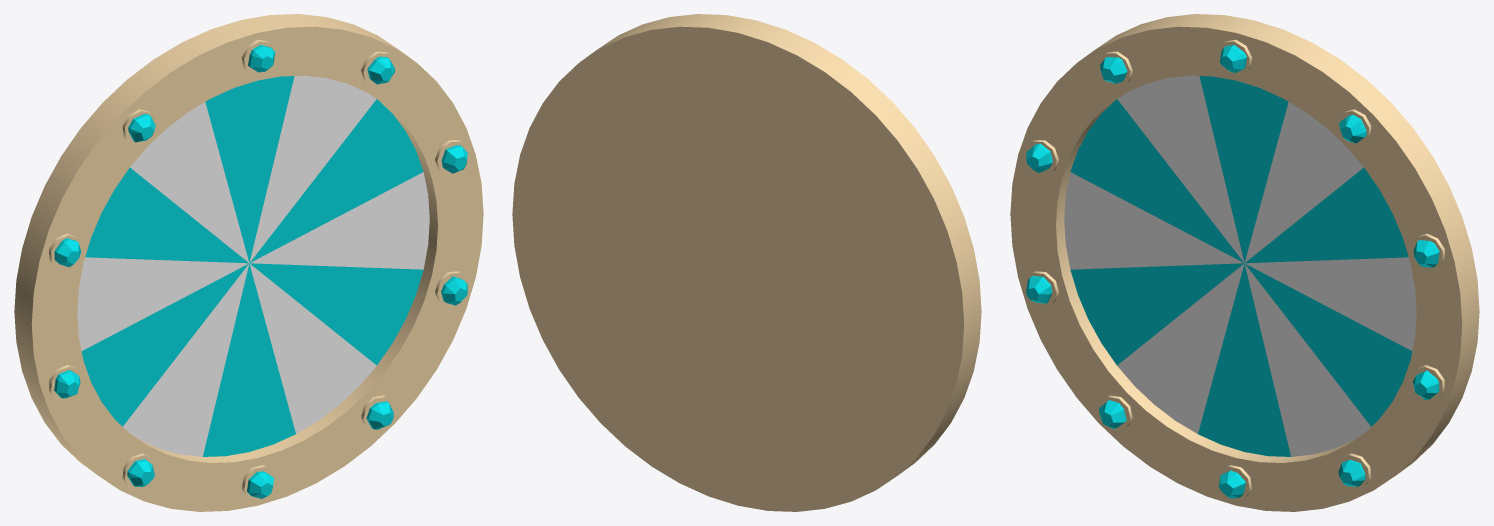
Rendered from fortune_wheel_wheel.fbx.
3 views of the same model, side by side, from view 1: azimuth 30°, elevation 25°; view 2: azimuth 150°, elevation 25°; view 3: azimuth 330°, elevation 25° (orthographic).
Parts seen in each view (by area): view 1: fortune_wheel_wheel; view 2: fortune_wheel_wheel; view 3: fortune_wheel_wheel.
Boxes of the visible parts, x1=… form: fortune_wheel_wheel: x1=14, y1=14, x2=483, y2=511; fortune_wheel_wheel: x1=512, y1=14, x2=981, y2=511; fortune_wheel_wheel: x1=1010, y1=14, x2=1479, y2=511.
Bounding box in the file's own units: 957 × 957 × 98.45.
Materials: 1 (1 with a texture image).
